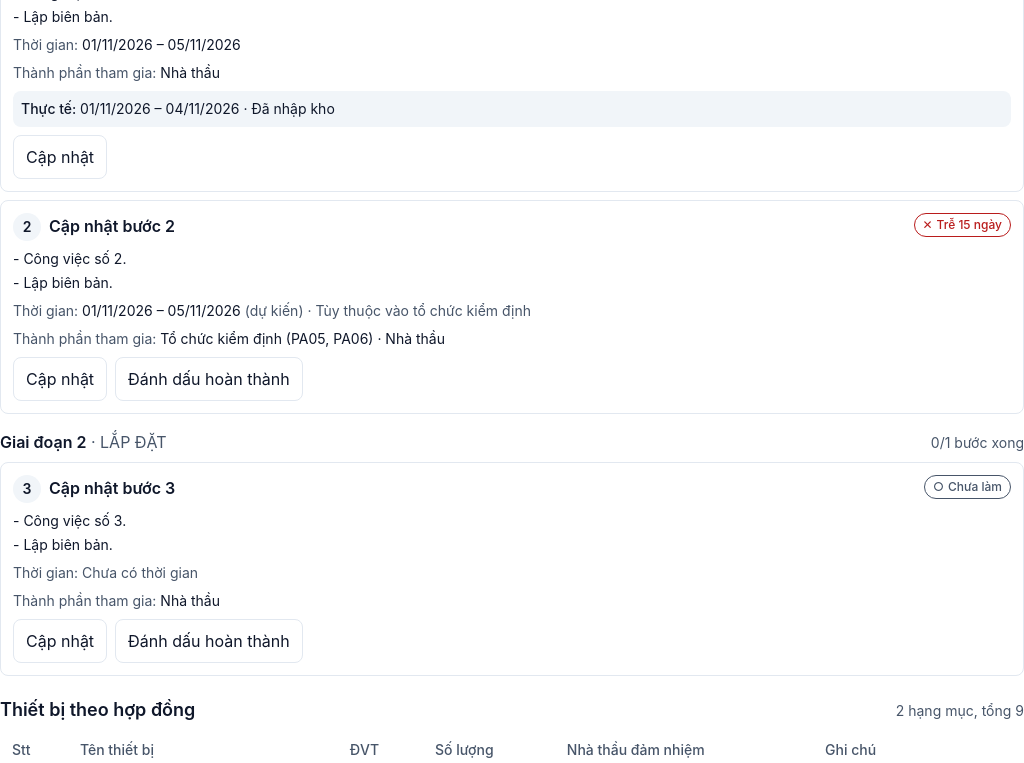
Test: PlanTab › shows the server message when a step update is refused
The width and height of the screenshot is (1024, 763).
(page scrolled)
What coordinates should you click on to do the following:
click the button "Cập nhật" below "Cập nhật bước 2"
I would click on:
 (60, 379)
Its box is [13,357,107,401].
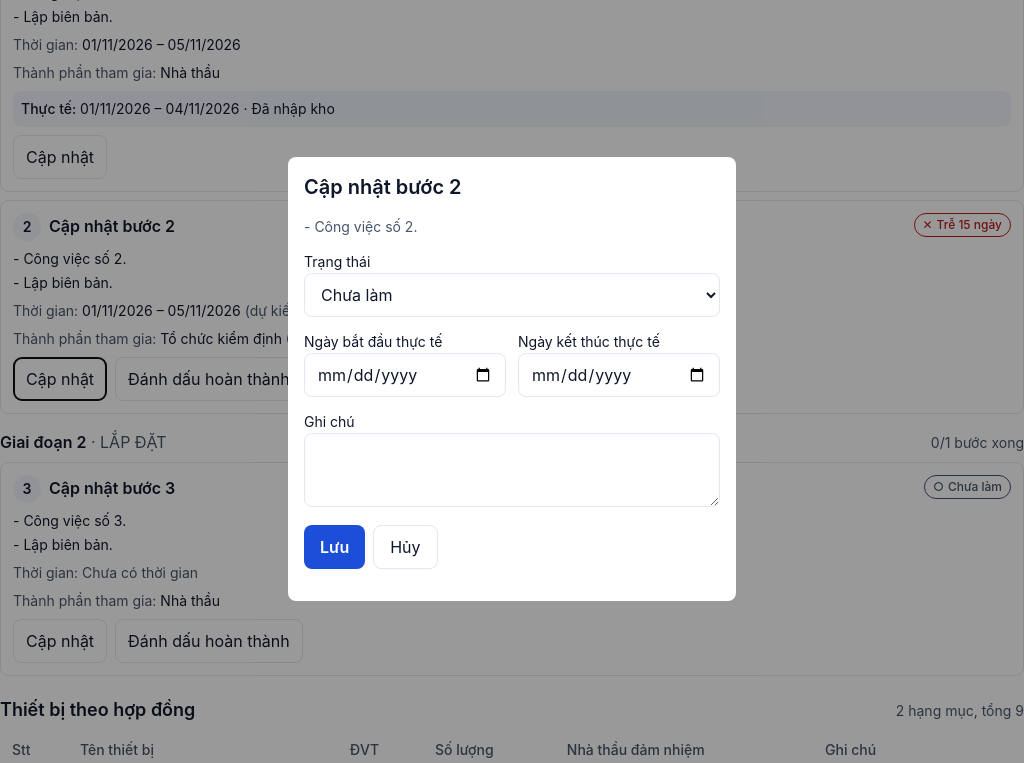
What coordinates should you click on to do the following:
click the button "Lưu"
I would click on:
 (335, 547)
Its box is [304,525,365,569].
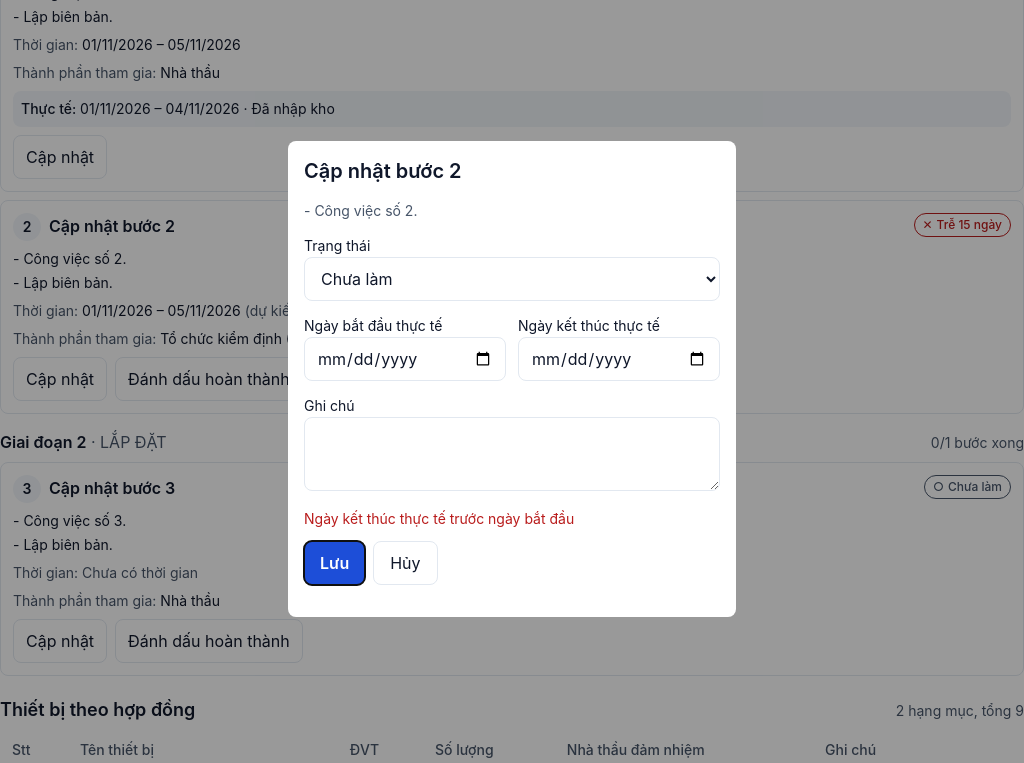
Expected: the message reads "Ngày kết thúc thực tế trước ngày bắt đầu", [304,510,574,527]
